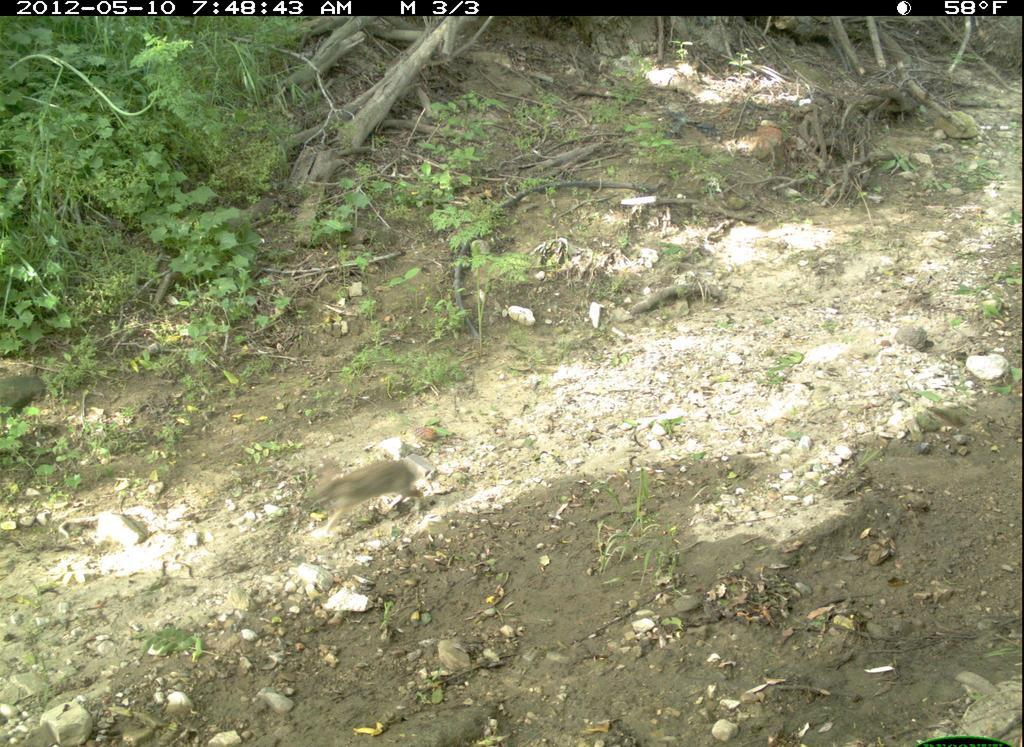rabbit: (278, 449, 443, 557)
